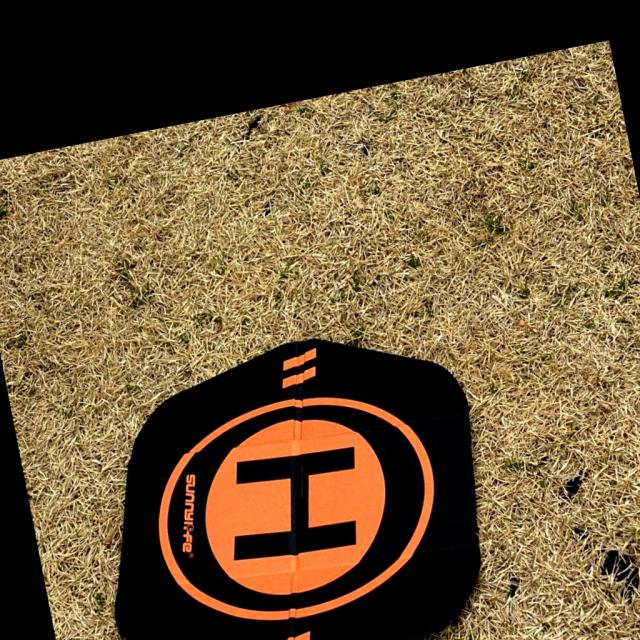helipad: (153, 394, 440, 621)
